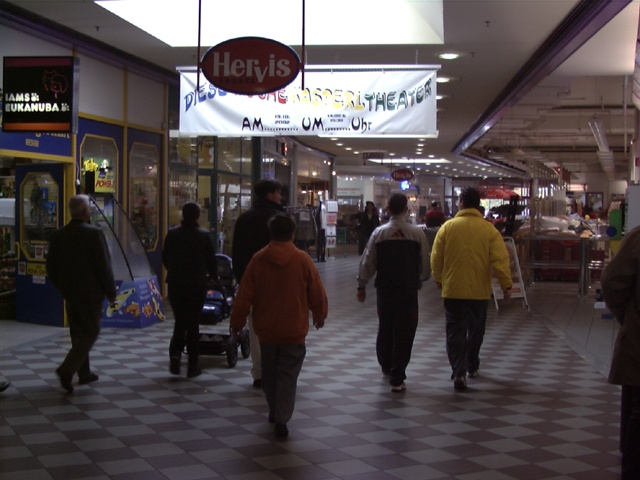person: (238, 214, 328, 445), (432, 182, 509, 389), (52, 192, 112, 394), (157, 195, 217, 378), (371, 194, 426, 392)
